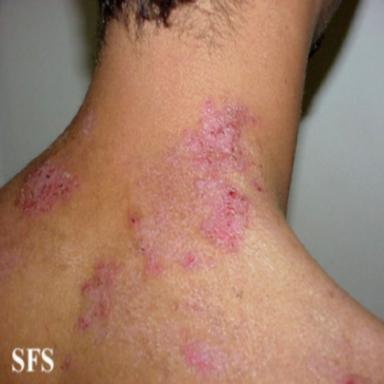Hailey-Hailey-Disease: (186, 103, 249, 248), (18, 161, 79, 214), (77, 262, 121, 331), (127, 209, 166, 282), (181, 342, 219, 376), (175, 248, 202, 272)
